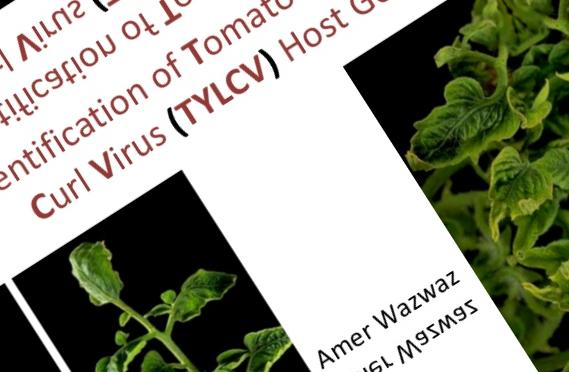Tomato leaf yellow virus: (389, 60, 527, 186), (450, 122, 569, 249), (148, 244, 248, 331), (53, 225, 139, 322), (73, 328, 166, 372)
